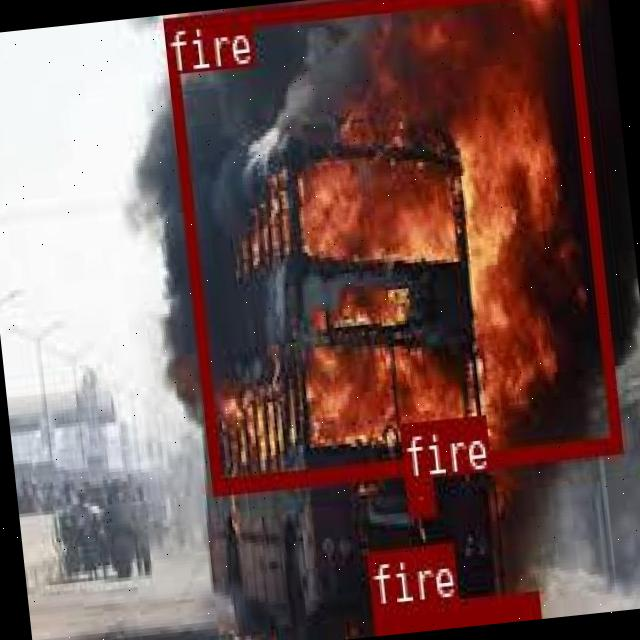fire: (161, 0, 620, 491), (371, 587, 537, 629), (403, 475, 432, 514)
